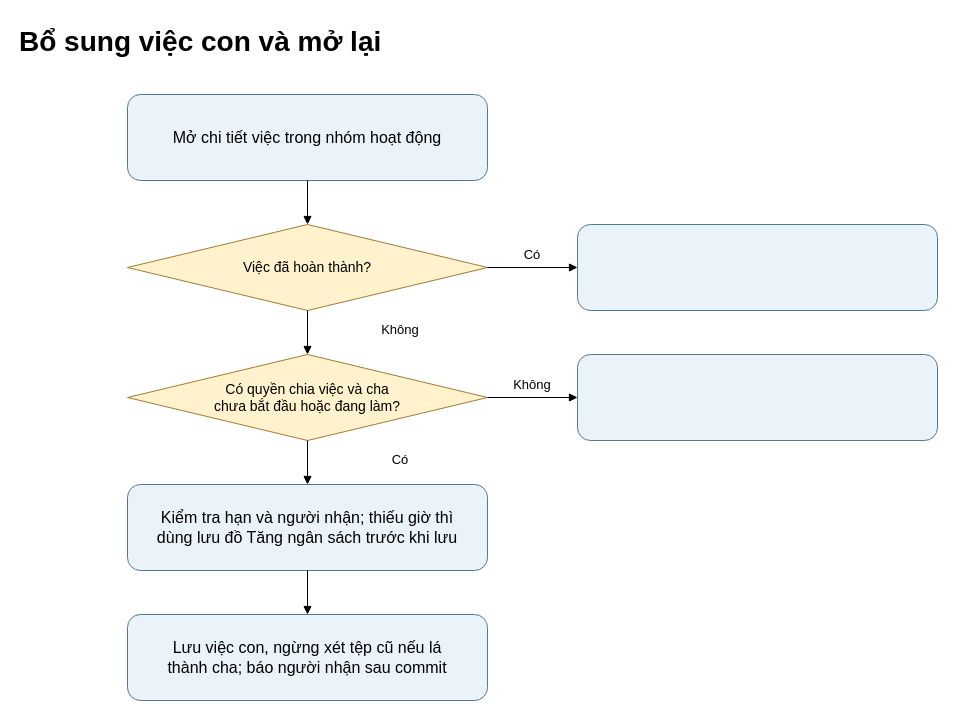
Image size: 955x718. Some labels were removed from this diagram. The box of each missing label's shape, as (x1, y1, x2, y2) in pixels:
Chuyển tới lưu đồ Mở lại việc hoàn thành. Kết thúc nhánh.: (576, 224, 938, 310)
Từ chối thay đổi. Kết thúc.: (576, 354, 938, 440)
